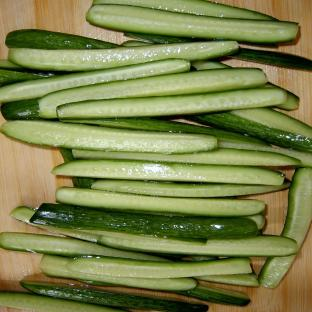Cucumber: (39, 69, 267, 117), (86, 5, 297, 44), (0, 59, 190, 102), (30, 204, 257, 239), (0, 120, 217, 153), (57, 88, 286, 119), (8, 41, 238, 71), (56, 187, 264, 217), (52, 160, 284, 185), (62, 118, 269, 146), (39, 255, 196, 291), (21, 281, 207, 311), (188, 112, 311, 152), (0, 232, 168, 261), (98, 235, 298, 256), (73, 148, 300, 166), (67, 256, 251, 278), (92, 180, 290, 197), (10, 207, 100, 242), (218, 140, 311, 167), (231, 108, 311, 137), (0, 292, 122, 311), (282, 169, 311, 247), (6, 29, 119, 49), (230, 48, 311, 70), (175, 285, 250, 306), (0, 60, 67, 76), (0, 99, 41, 120), (124, 32, 197, 43), (197, 273, 258, 286), (0, 70, 50, 84), (192, 61, 230, 70), (0, 60, 27, 71), (72, 177, 94, 188), (122, 40, 152, 46)
